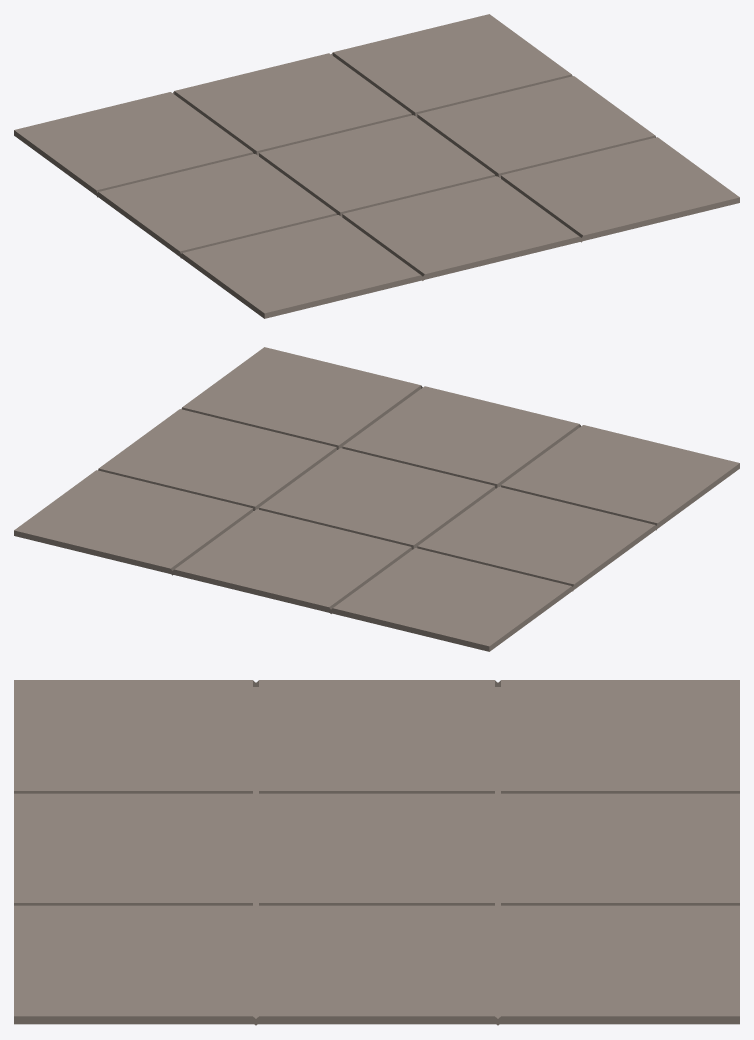
File: floor_2.obj
3 renders of one model, top to bottom at view 1: azimuth 30°, elevation 25°; view 2: azimuth 150°, elevation 25°; view 3: azimuth 270°, elevation 25°, orthographic. The views are drawn at different scales.
Visible parts, largest first — view 1: floor_2; view 2: floor_2; view 3: floor_2.
Part boxes in pixels (box(x1,y1,x2,y2)): floor_2: box(14, 14, 739, 318); floor_2: box(14, 347, 739, 651); floor_2: box(14, 680, 739, 1025).
Bounding box in the file's own units: 1.53 × 0.0203 × 1.4.
